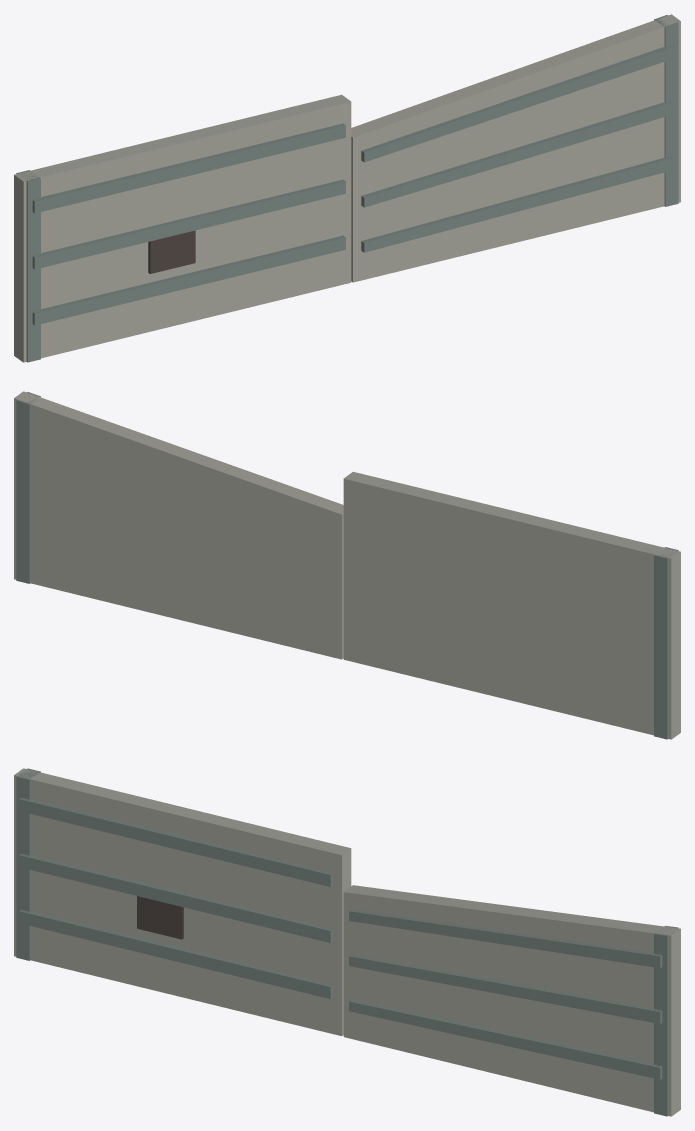
Rendered from SM_PuertaVehiculos_v4_Blindada_e1_Danado_LOD1.fbx.
The picture shows the model from 3 angles, top to bottom: view 1: azimuth 30°, elevation 25°; view 2: azimuth 150°, elevation 25°; view 3: azimuth 330°, elevation 25°; orthographic projection.
Parts seen in each view (by area): view 1: Hoja_O, Hoja_E; view 2: Hoja_O, Hoja_E; view 3: Hoja_O, Hoja_E.
Part boxes in pixels (x1,y1,x2,y2): Hoja_O: (14,94,351,362); Hoja_E: (351,14,680,282); Hoja_O: (343,471,680,739); Hoja_E: (14,391,343,659); Hoja_O: (14,768,351,1036); Hoja_E: (343,885,680,1116).
Size of what is drawn, in the model's own units: 7.98 by 2.1 by 0.28.
